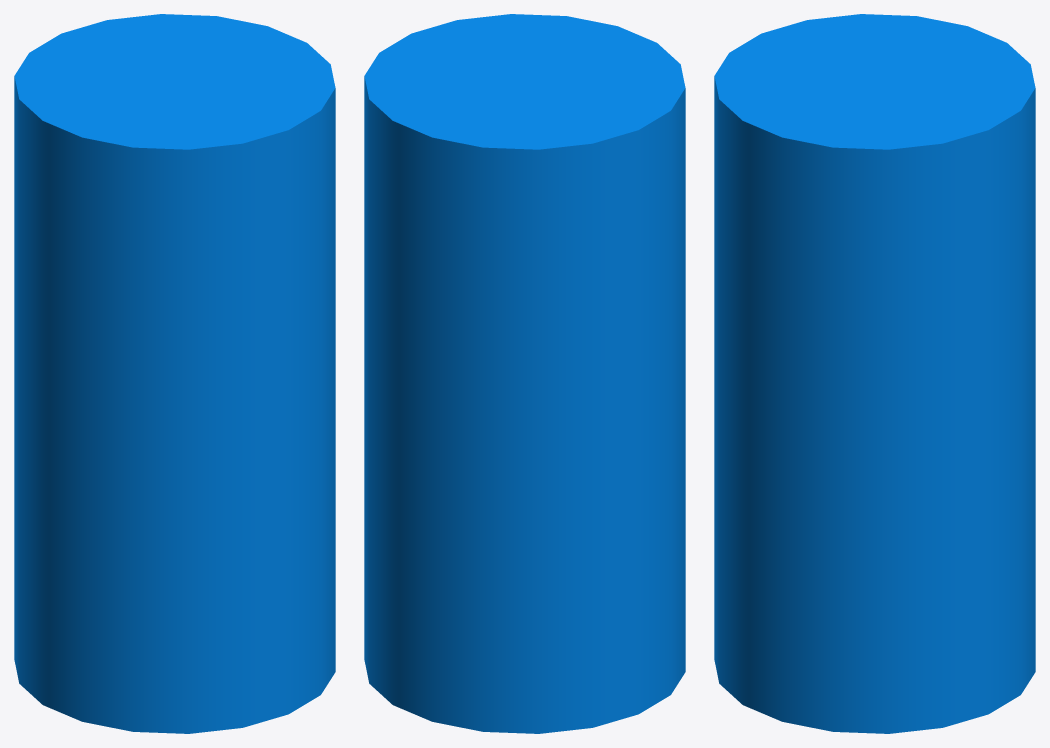
The model's file is playerBlue.DAE.
3 renders of one model, left to right at view 1: azimuth 30°, elevation 25°; view 2: azimuth 150°, elevation 25°; view 3: azimuth 270°, elevation 25°, orthographic.
Parts seen in each view (by area): view 1: Zylinder001; view 2: Zylinder001; view 3: Zylinder001.
Part boxes in pixels (<box>): Zylinder001: <box>14,14,335,733</box>; Zylinder001: <box>364,14,685,733</box>; Zylinder001: <box>714,14,1035,733</box>.
Size of the model in its own units: 2.99 by 2.99 by 6.
